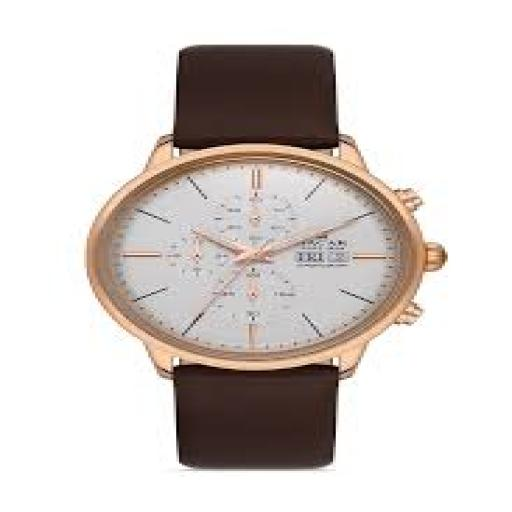KolSaati: (77, 28, 450, 492)
